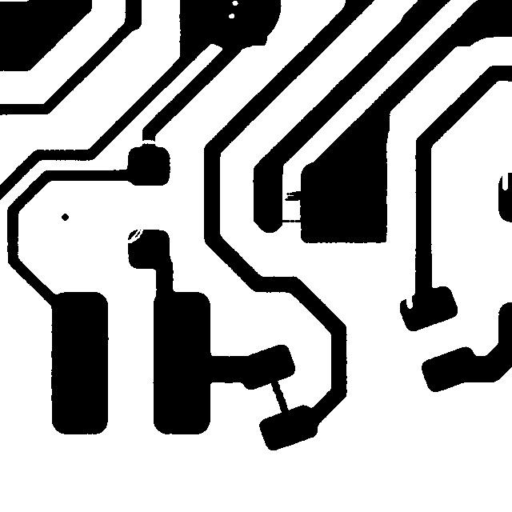copper: (54, 206, 76, 228)
mousebite: (398, 286, 420, 316), (494, 163, 511, 198)
open: (117, 218, 150, 250), (126, 132, 171, 151)
pin-hole: (221, 6, 242, 26)
short: (261, 367, 297, 423), (267, 212, 310, 230)
spur: (242, 25, 274, 53), (283, 183, 310, 207)
